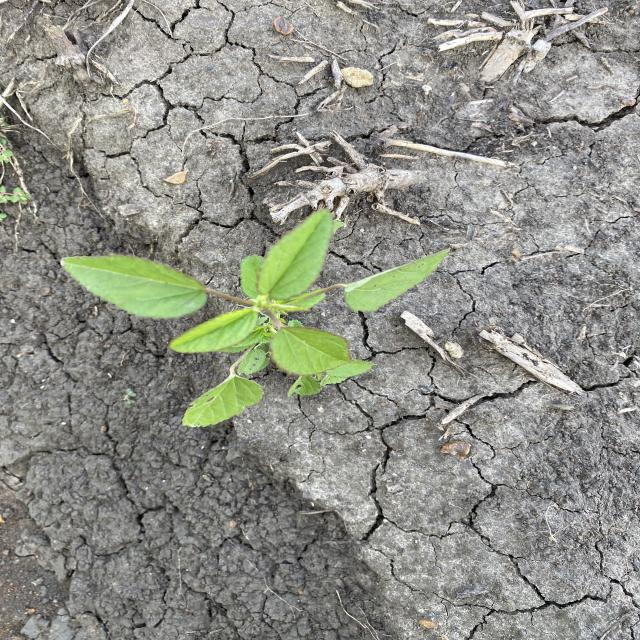PricklySida: (57, 204, 457, 430)
